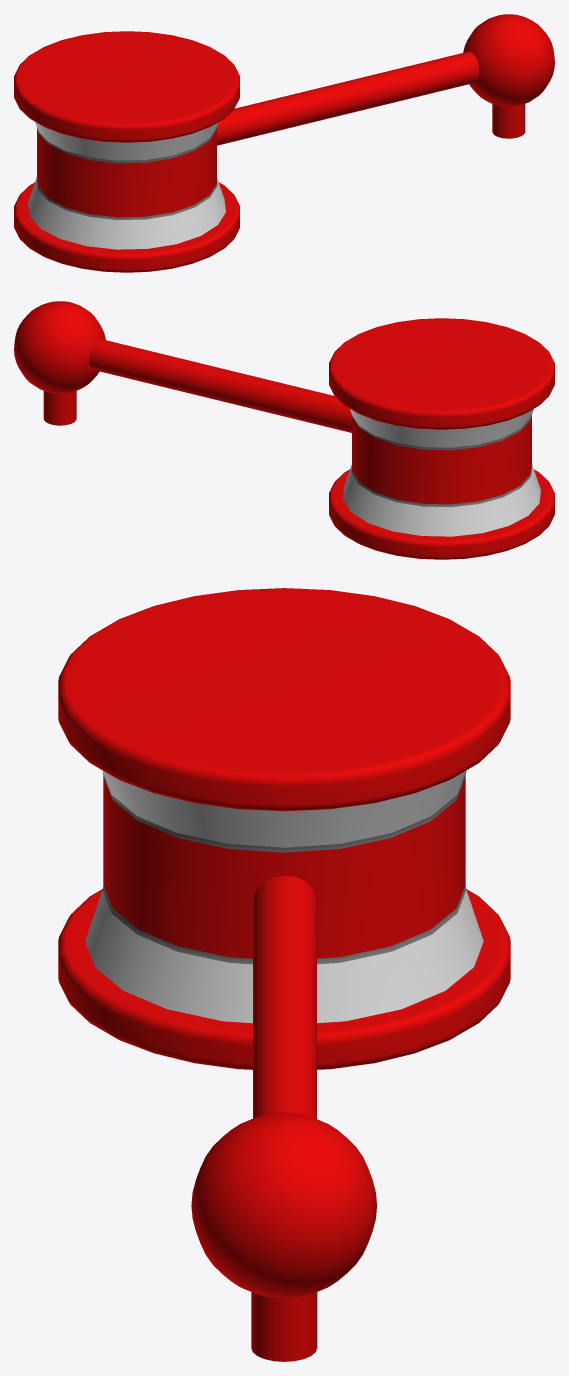
Rendered from obstical2.fbx.
3 views of the same model, one above another, from view 1: azimuth 30°, elevation 25°; view 2: azimuth 150°, elevation 25°; view 3: azimuth 270°, elevation 25° (orthographic). The views are drawn at different scales.
Parts seen in each view (by area): view 1: pCylinder52, pSphere2, pCylinder51; view 2: pCylinder52, pSphere2, pCylinder51; view 3: pCylinder52, pSphere2, pCylinder51.
Part boxes in pixels (x1=…): pCylinder52: x1=14, y1=31, x2=479, y2=272; pSphere2: x1=463, y1=14, x2=554, y2=106; pCylinder51: x1=492, y1=104, x2=525, y2=138; pCylinder52: x1=89, y1=318, x2=554, y2=559; pSphere2: x1=14, y1=301, x2=105, y2=393; pCylinder51: x1=43, y1=391, x2=76, y2=425; pCylinder52: x1=58, y1=588, x2=510, y2=1118; pSphere2: x1=191, y1=1113, x2=376, y2=1298; pCylinder51: x1=251, y1=1292, x2=317, y2=1361.
Size of the model in its own units: 10.18 by 2.78 by 3.83.
